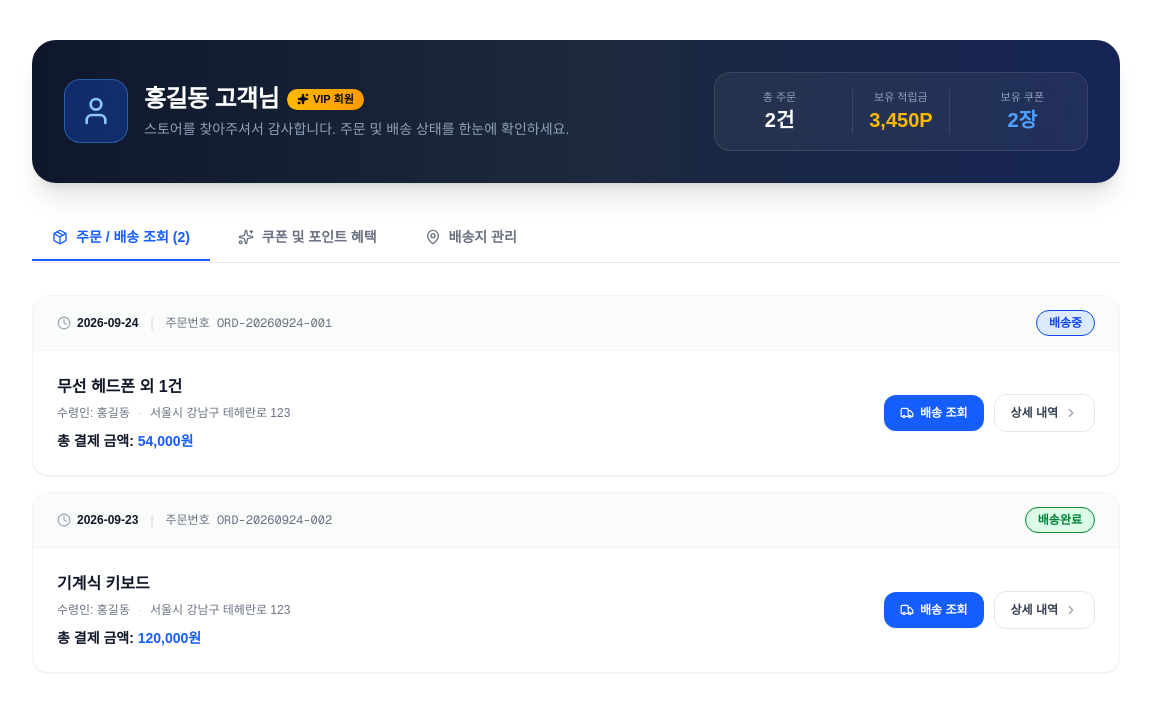
Scenario: MyPageView › 탭 클릭 시 해당 탭 내용으로 전환된다
The width and height of the screenshot is (1152, 720).
Click the button "쿠폰 및 포인트 혜택" at (307, 238), box 218,214 -> 397,260
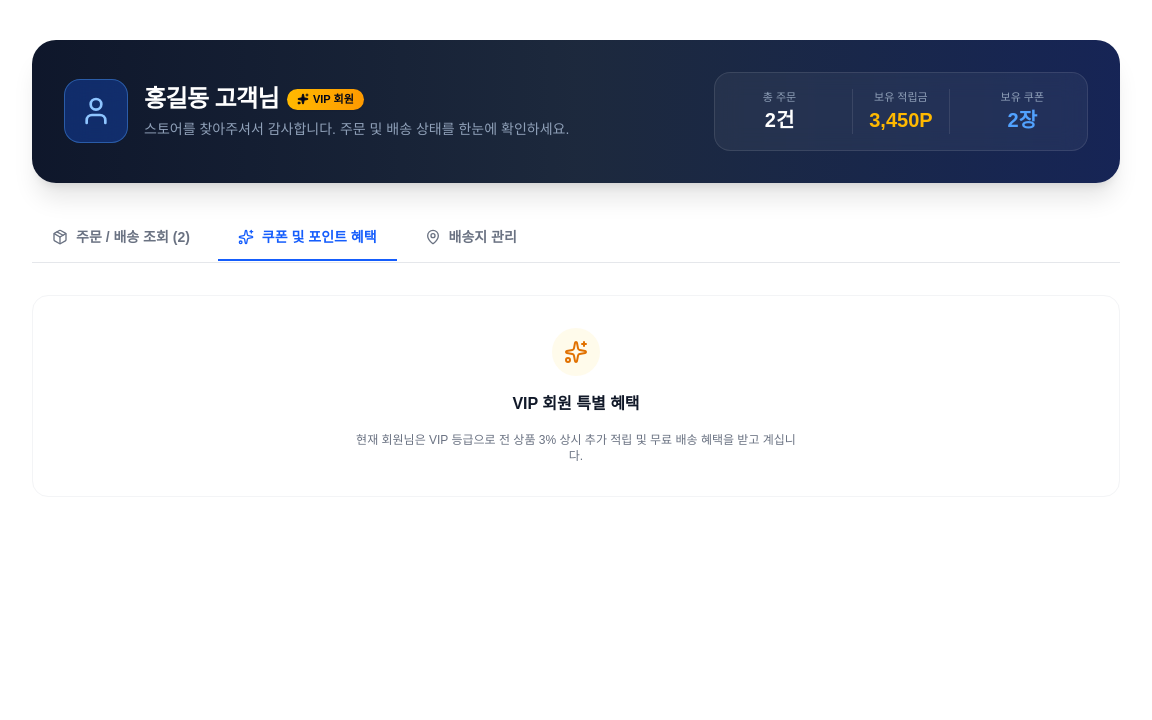
Check: the heading "VIP 회원 특별 혜택" is shown, box 512,394 -> 640,412
Check: the text "현재 회원님은 VIP 등급으로 전 상품 3% 상시 추가 적립 및 무료 배송 혜택을 받고 계십니다." is shown, box 352,432 -> 800,464
